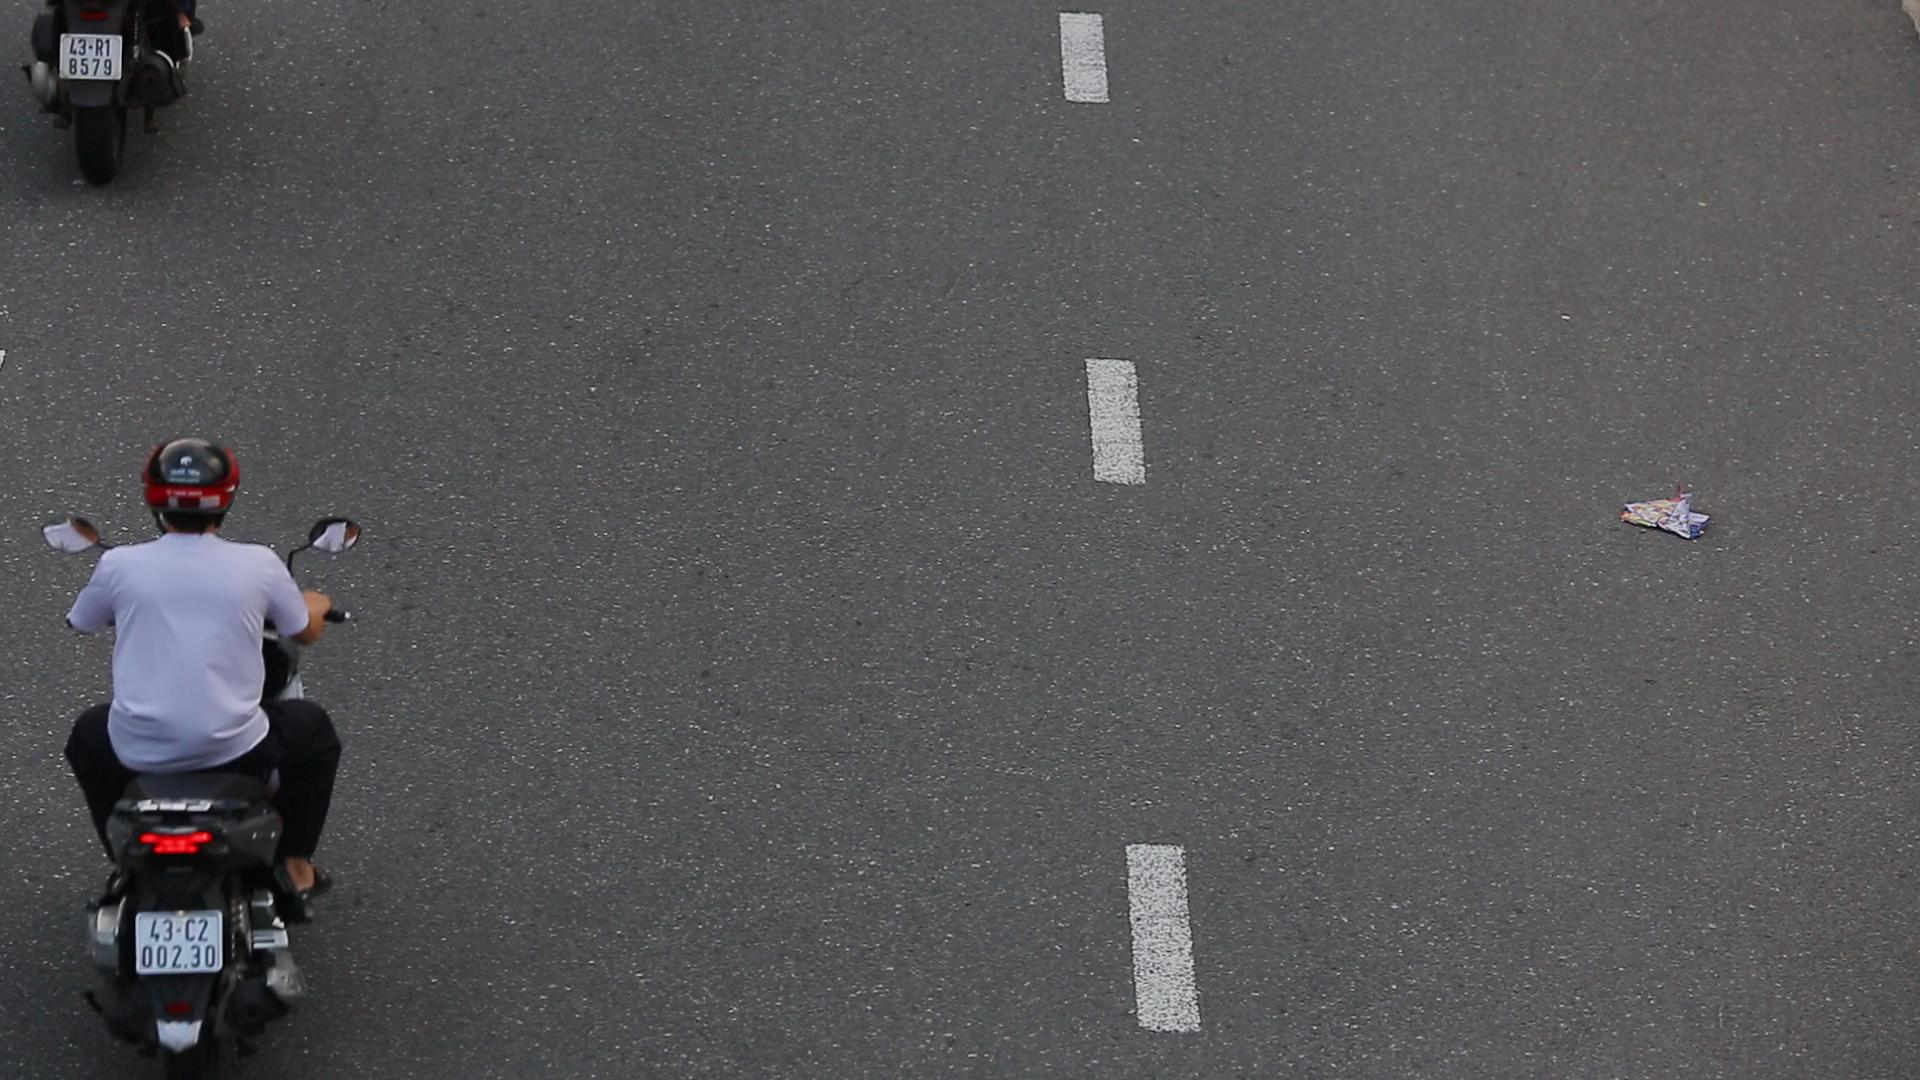motobike: (12, 414, 434, 1080)
